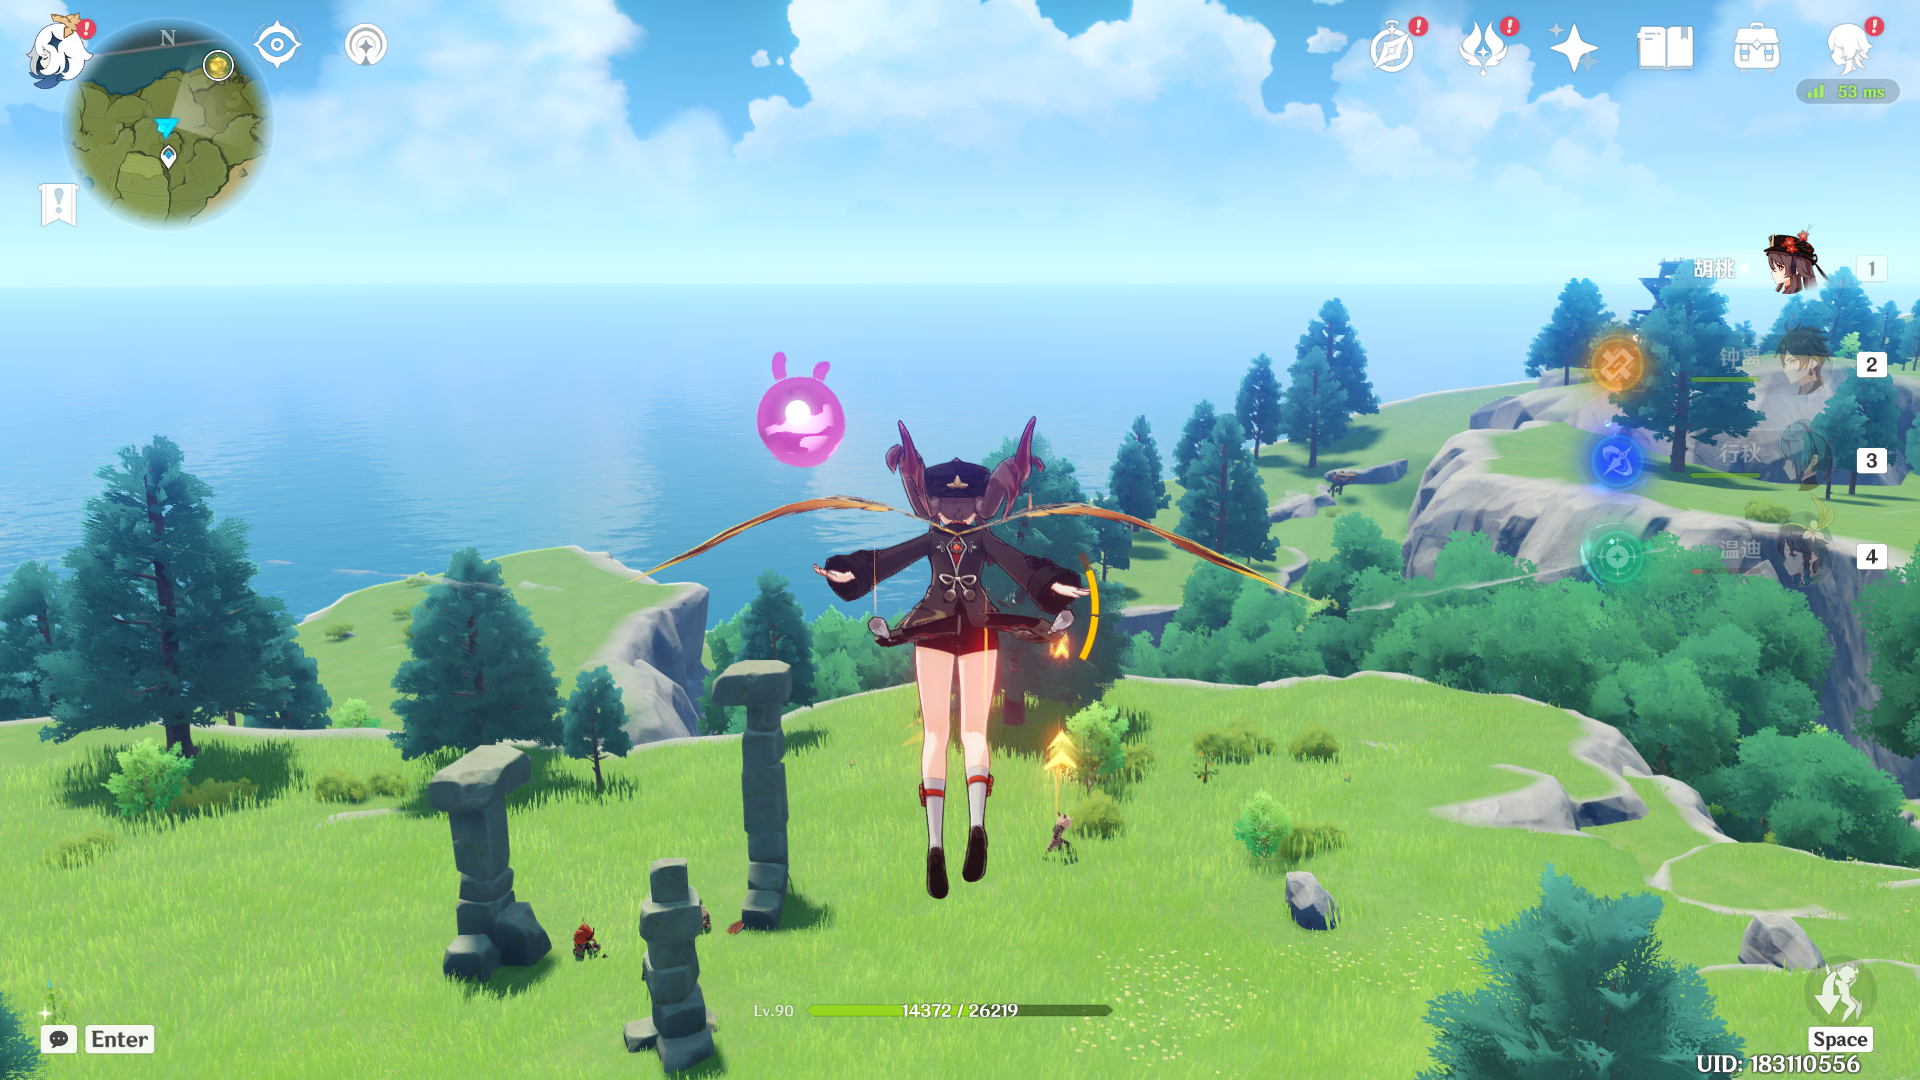character: (777, 410, 1150, 938)
